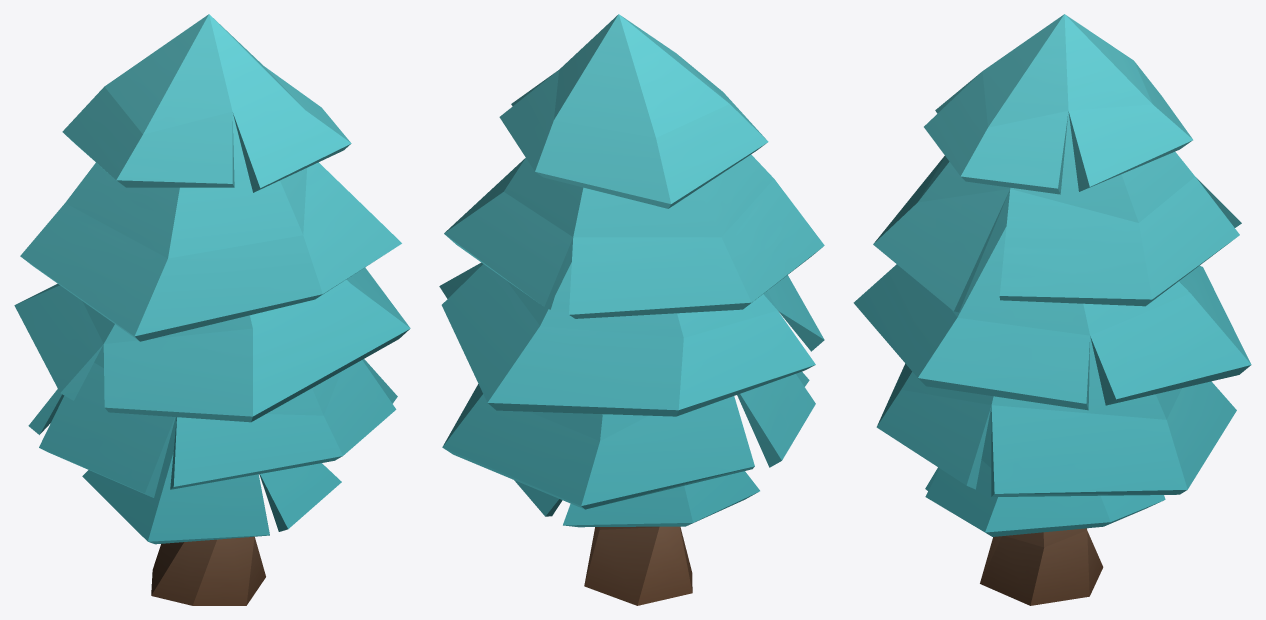
File: tree_spruce_blue.fbx
3 views of the same model, side by side, from view 1: azimuth 30°, elevation 25°; view 2: azimuth 150°, elevation 25°; view 3: azimuth 270°, elevation 25° (orthographic). The views are drawn at different scales.
Parts seen in each view (by area): view 1: tree_spruce_blue; view 2: tree_spruce_blue; view 3: tree_spruce_blue.
Boxes of the visible parts, x1,y1,x2,y2 form: tree_spruce_blue: (14,14,410,605); tree_spruce_blue: (439,14,824,605); tree_spruce_blue: (853,14,1251,605).
Size of the model in its own units: 5.3 by 8.4 by 5.3.
Materials: 1 (1 with a texture image).
